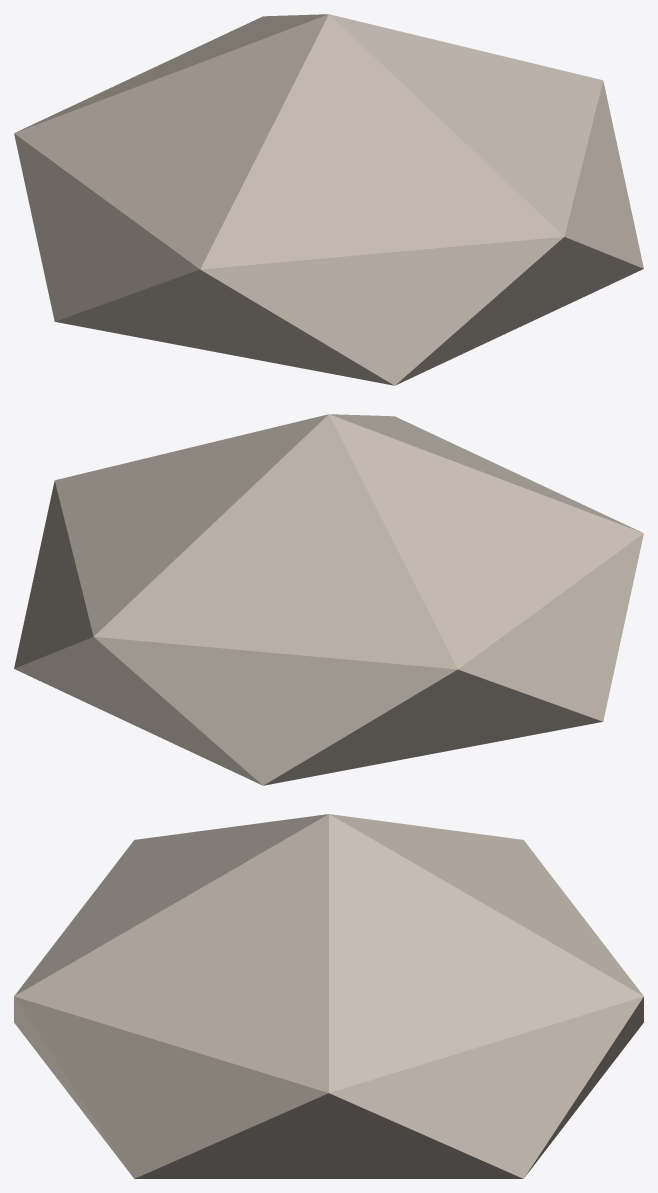
File: cueva_bloque_1.glb
3 views of the same model, one above another, from view 1: azimuth 30°, elevation 25°; view 2: azimuth 150°, elevation 25°; view 3: azimuth 270°, elevation 25° (orthographic). The views are drawn at different scales.
Visible parts, largest first — view 1: Cave_Boulder_1; view 2: Cave_Boulder_1; view 3: Cave_Boulder_1.
Boxes of the visible parts, bbox=[...] form: Cave_Boulder_1: bbox=[14, 14, 643, 385]; Cave_Boulder_1: bbox=[14, 414, 643, 785]; Cave_Boulder_1: bbox=[14, 814, 643, 1178].
Bounding box in the file's own units: 2.5 × 1.05 × 2.38.
